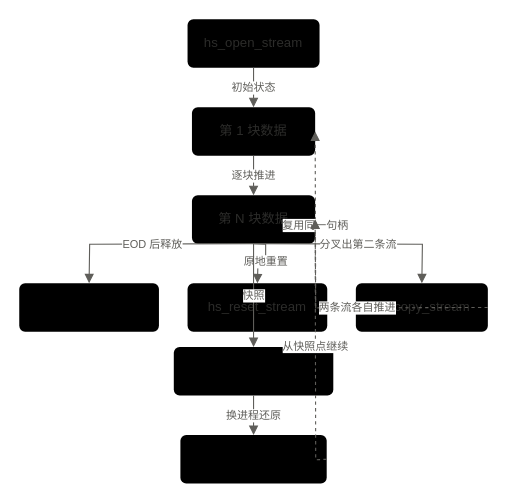
Image size: 516x503. Some labels were removed from this diagram. The shapes that lost their labels are listed below. From the top down, each one's box as (x1, y1, x2, y2) in pixels, then its label:
(18, 282, 159, 332): hs_close_stream
(173, 346, 333, 395): hs_compress_stream
(179, 434, 327, 483): hs_expand_stream
